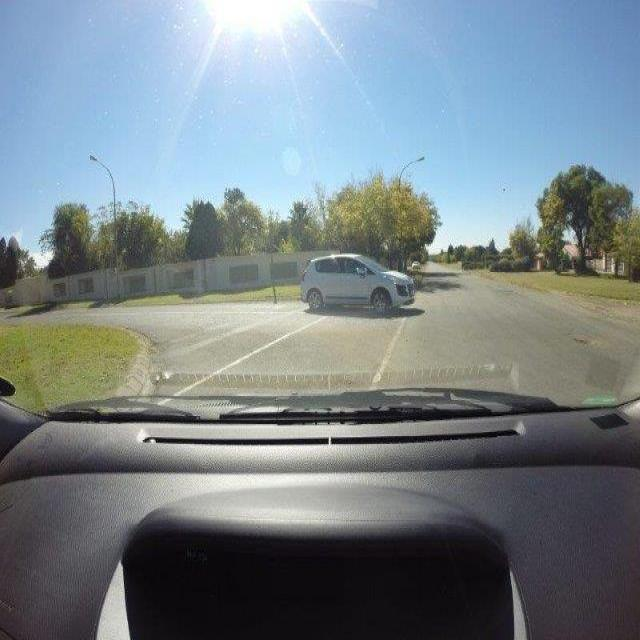lubang: (562, 332, 606, 351)
